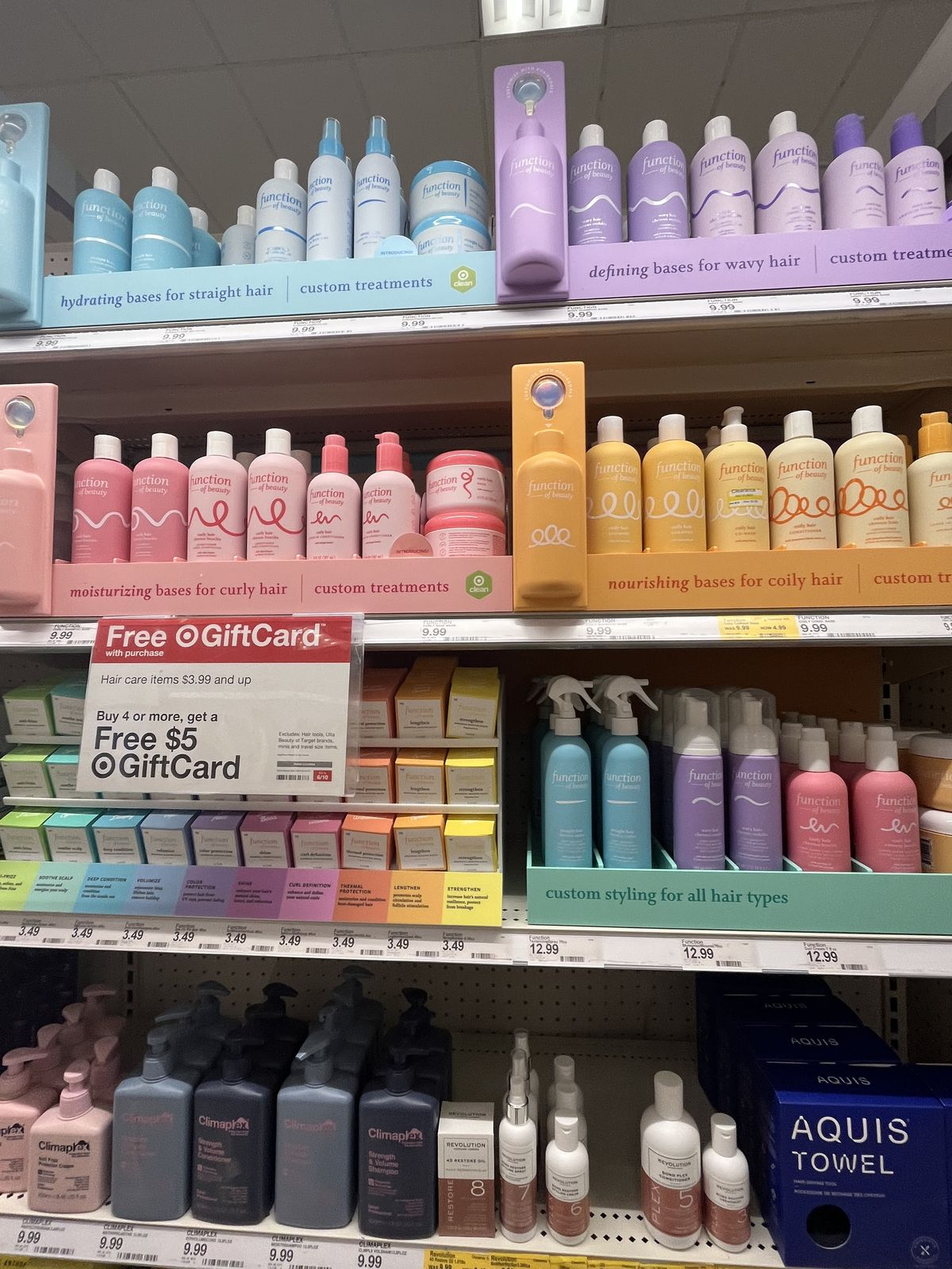Shampoo: (835, 407, 907, 544), (706, 414, 769, 551), (690, 116, 754, 236), (131, 434, 187, 562)
